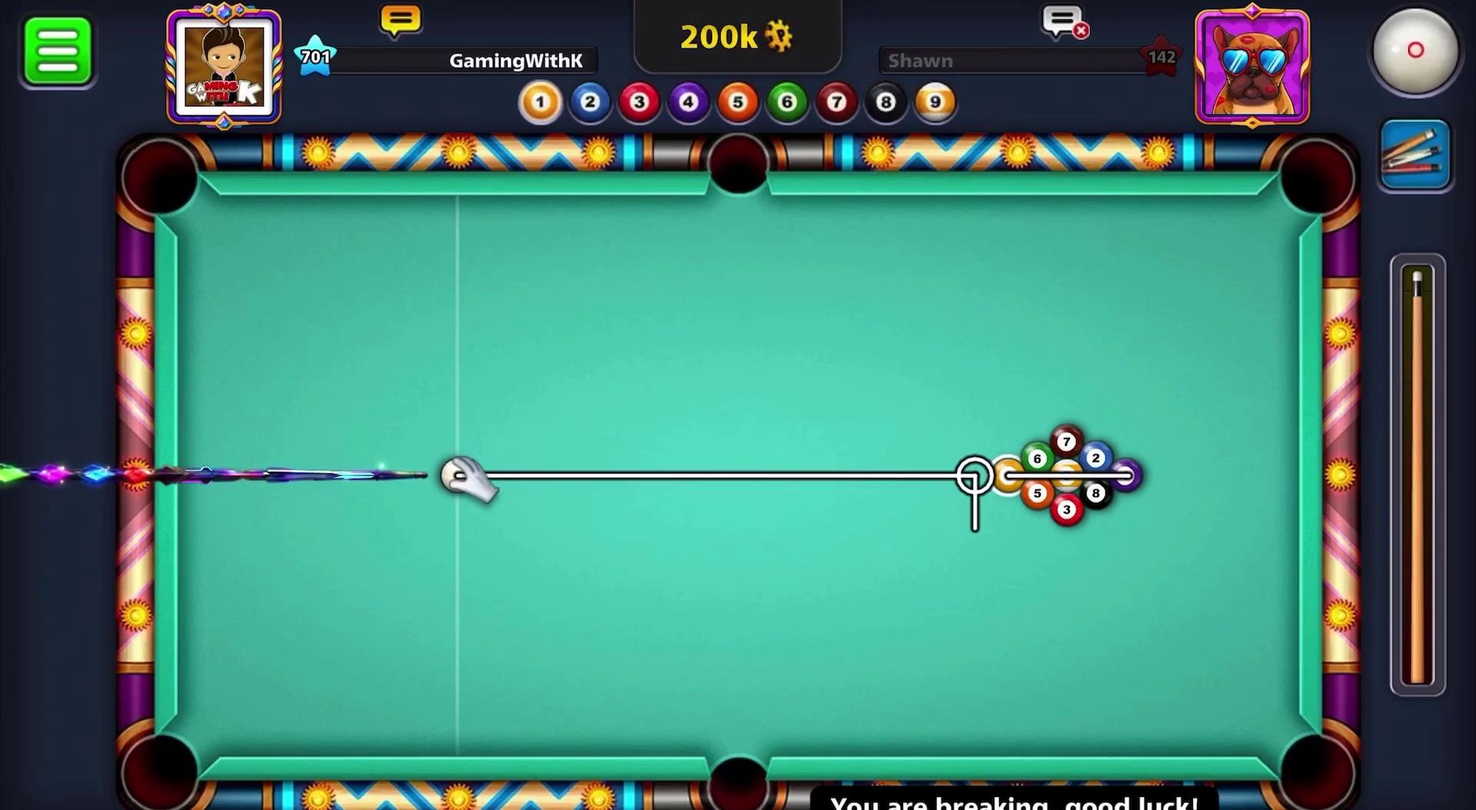Ball: (1010, 437, 1056, 471), (1048, 420, 1084, 459), (1047, 490, 1084, 527), (1108, 456, 1144, 494), (991, 455, 1025, 494), (1048, 456, 1083, 493), (1078, 438, 1111, 473), (1020, 477, 1056, 508), (1078, 476, 1111, 509)
Force: (1388, 253, 1452, 707)
Guideline: (460, 467, 1144, 537)
Hole: (108, 129, 212, 230), (1270, 130, 1364, 231), (1265, 718, 1364, 808), (111, 724, 208, 809), (686, 738, 783, 809), (701, 124, 776, 204)
Play_Area: (177, 194, 1299, 761)
Spin: (1345, 1, 1475, 111)
White: (431, 453, 483, 497)
